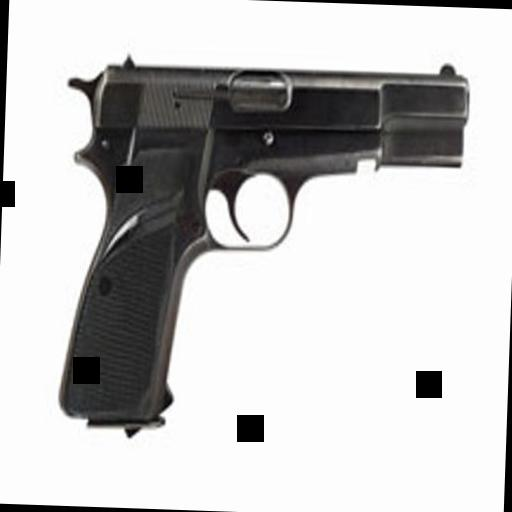Handgun: (45, 39, 477, 439)
